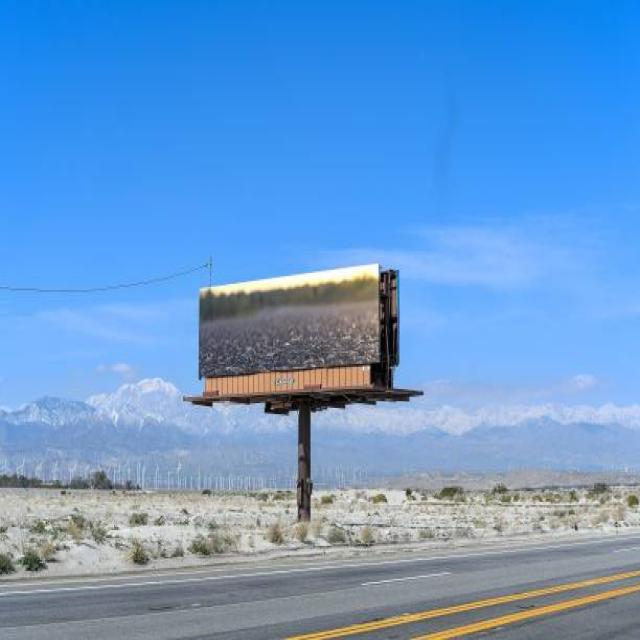Billboard_LHS: (184, 238, 412, 424)
Roadcorner: (275, 552, 638, 638), (12, 554, 316, 600)
Roadlane: (115, 542, 592, 628)
